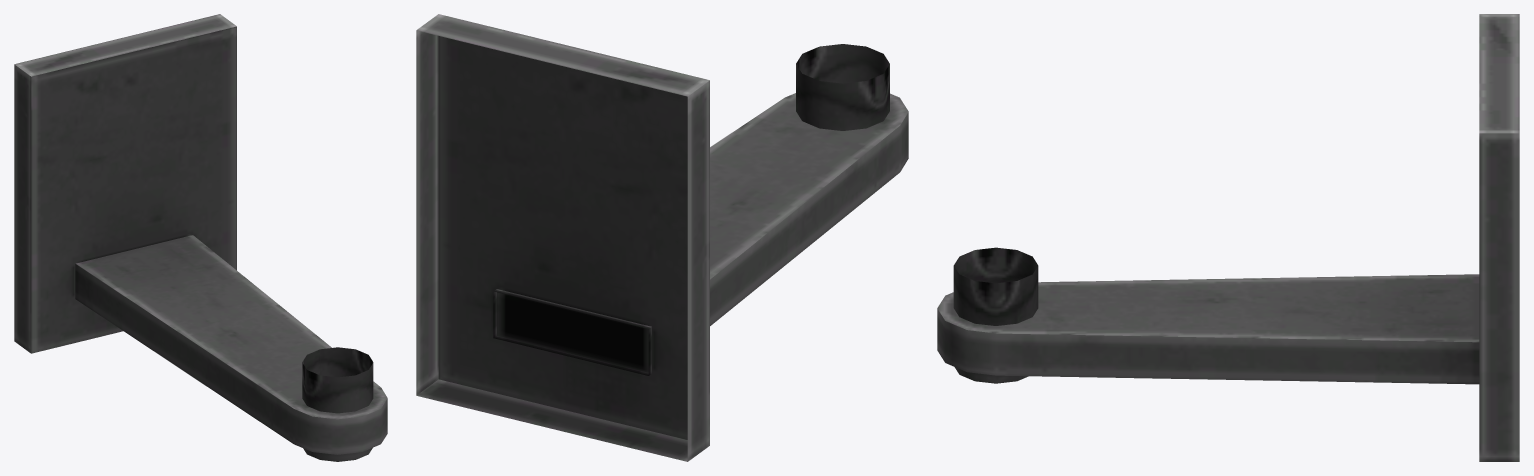
Rendered from cctv_camera_bracket.dae.
3 views of the same model, side by side, from view 1: azimuth 30°, elevation 25°; view 2: azimuth 150°, elevation 25°; view 3: azimuth 270°, elevation 25° (orthographic). The views are drawn at different scales.
Visible parts, largest first — view 1: stand; view 2: stand; view 3: stand.
Part boxes in pixels (<box>): stand: <box>14,14,387,461</box>; stand: <box>416,14,908,461</box>; stand: <box>937,14,1519,461</box>.
Bounding box in the file's own units: 0.2188 × 0.2812 × 0.4516.
